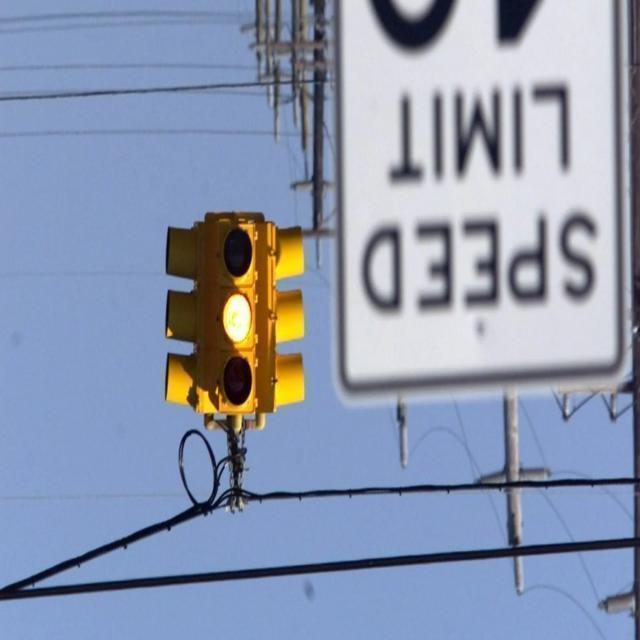yellow_light: (164, 210, 302, 412)
